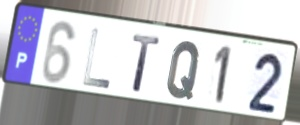1: (212, 45, 232, 108)
2: (244, 48, 288, 116)
6: (39, 19, 79, 86)
L: (81, 26, 112, 91)
Q: (165, 39, 204, 102)
T: (130, 33, 163, 96)
